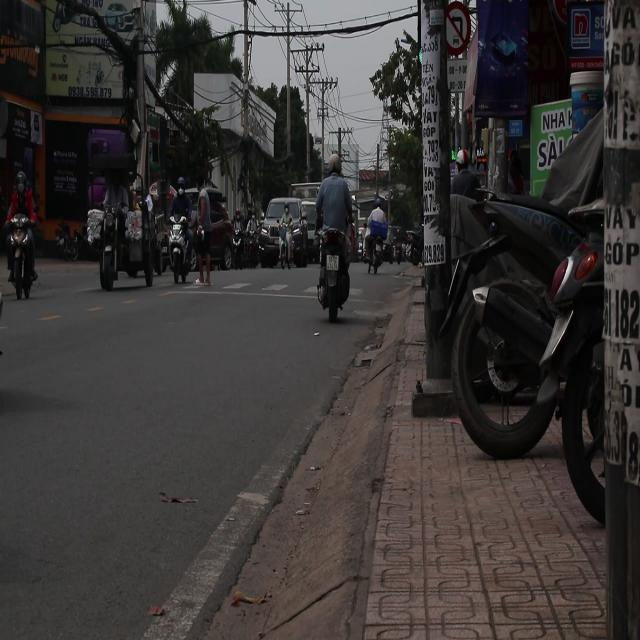car: (259, 198, 309, 268)
motorbike: (0, 184, 46, 331), (361, 194, 396, 293), (316, 228, 352, 324), (219, 215, 259, 288), (167, 217, 191, 282), (278, 217, 302, 280), (55, 226, 81, 262)
